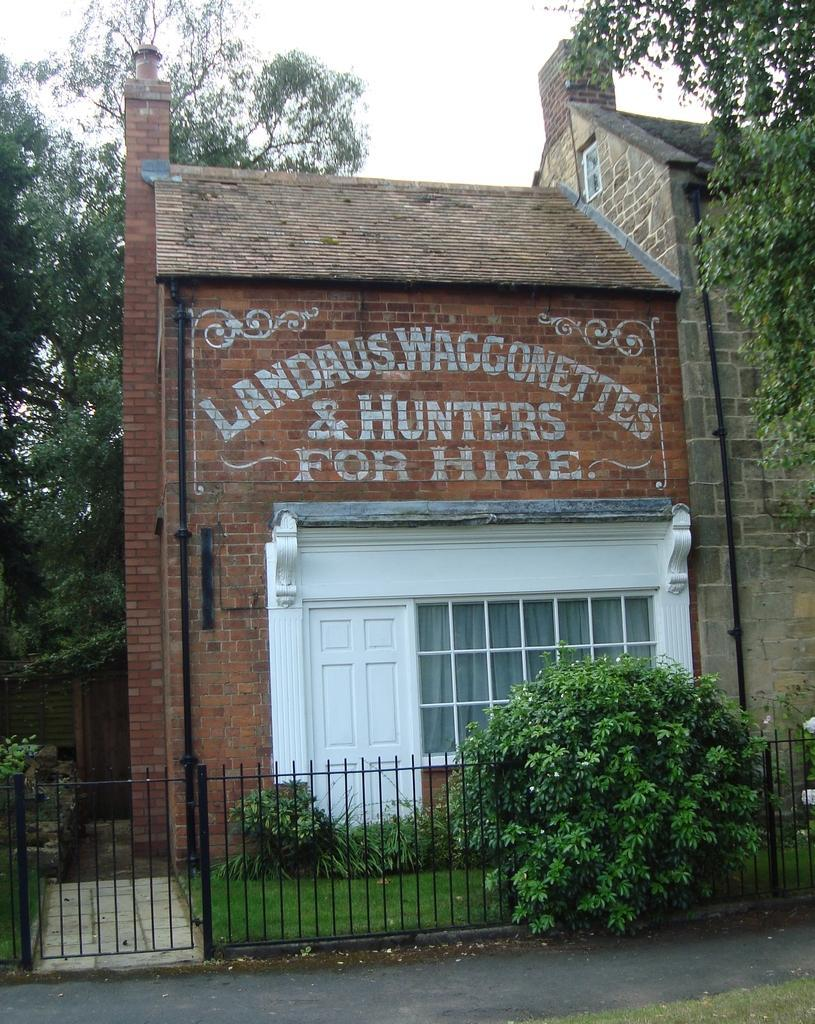door: (308, 612, 405, 812)
